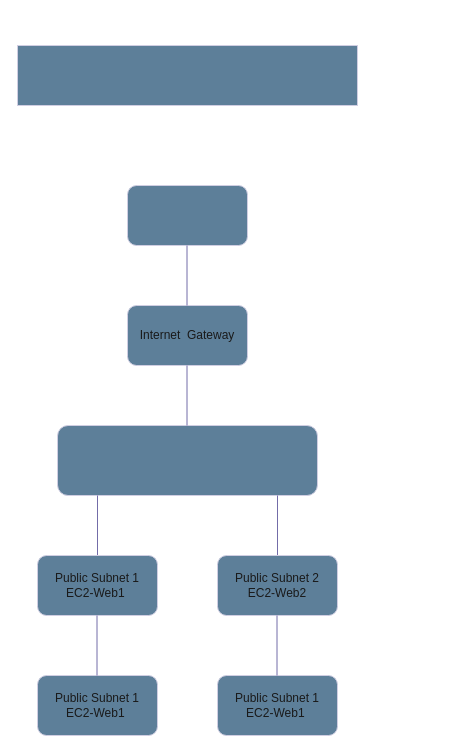
Some shapes in this 455 by 753 pixel diagram are drawn without their labels. The shapes that lost their labels are listed below. From the top down, each one's box as (x1, y1, x2, y2) in pixels, then its label:
(16, 44, 358, 106): Architecture Diagram
(126, 184, 248, 246): Internet
(56, 424, 318, 496): VPC (10.0.0.0/16)
